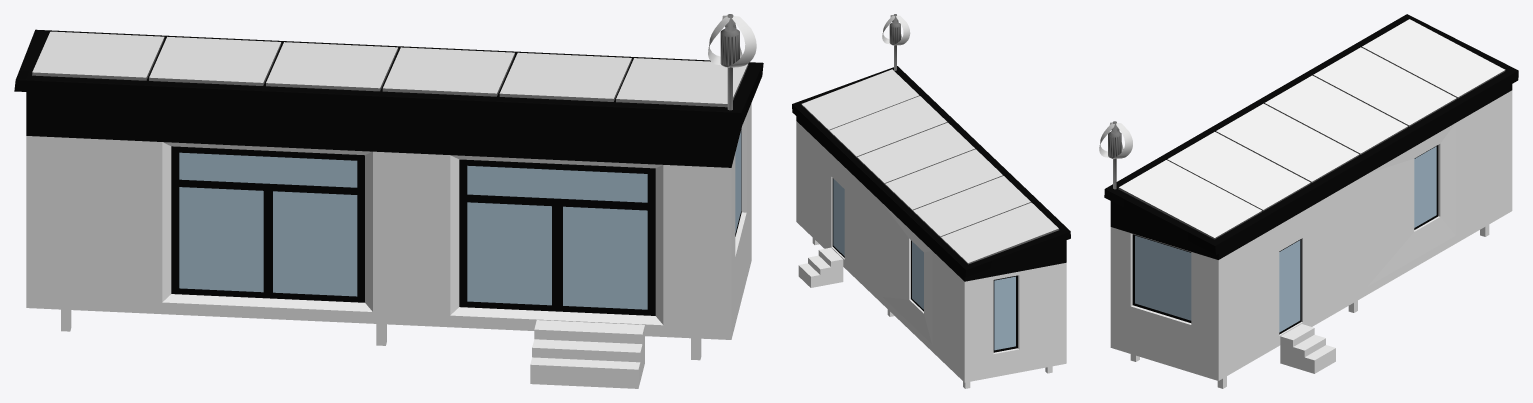
The model's file is house.glb.
3 renders of one model, left to right at view 1: azimuth 30°, elevation 25°; view 2: azimuth 150°, elevation 25°; view 3: azimuth 270°, elevation 25°, orthographic. The views are drawn at different scales.
Parts seen in each view (by area): view 1: Cube.001; view 2: Cube.001; view 3: Cube.001.
Part boxes in pixels (left/top/right/bottom): Cube.001: left=14, top=14, right=763, bottom=388; Cube.001: left=792, top=14, right=1070, bottom=388; Cube.001: left=1099, top=14, right=1518, bottom=388.
Size of the model in its own units: 3.44 by 1.88 by 2.91.
